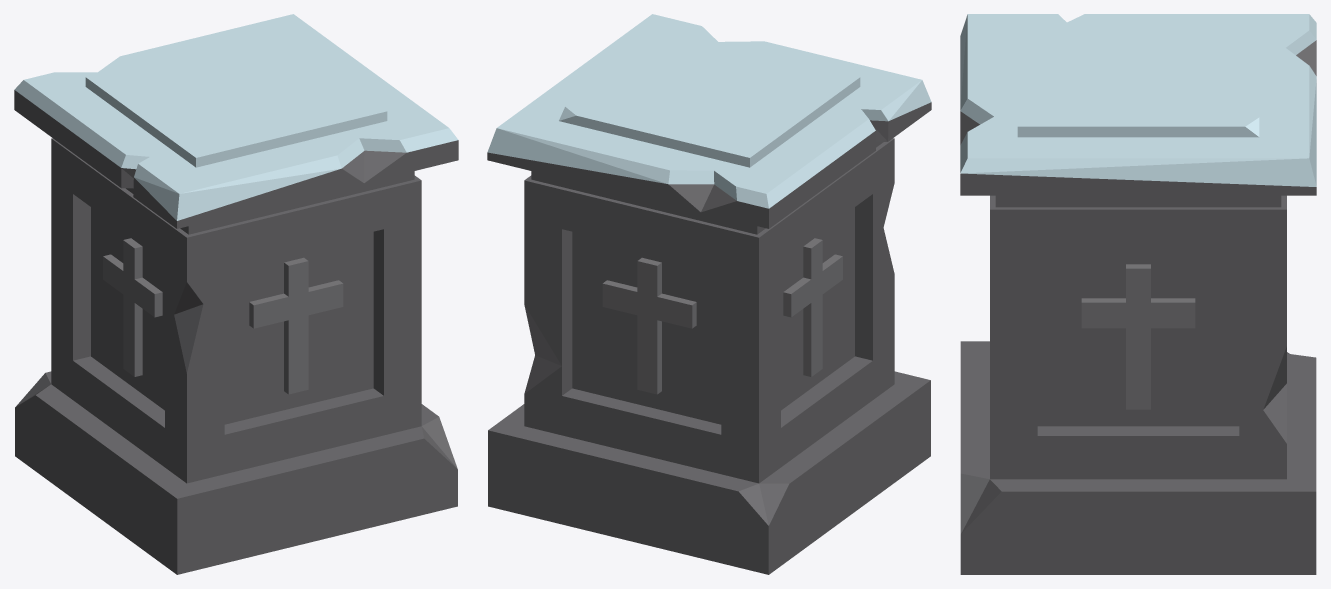
File: SM_Prop_Plinth_01_Snow.gltf
The picture shows the model from 3 angles, left to right: view 1: azimuth 30°, elevation 25°; view 2: azimuth 150°, elevation 25°; view 3: azimuth 270°, elevation 25°; orthographic projection. The views are drawn at different scales.
Visible parts, largest first — view 1: SM_Prop_Plinth_01_Snow; view 2: SM_Prop_Plinth_01_Snow; view 3: SM_Prop_Plinth_01_Snow.
Boxes of the visible parts, <box> form: SM_Prop_Plinth_01_Snow: <box>14,14,458,574</box>; SM_Prop_Plinth_01_Snow: <box>487,14,931,574</box>; SM_Prop_Plinth_01_Snow: <box>960,14,1316,574</box>.
Bounding box in the file's own units: 1.2 × 1.57 × 1.2.
Materials: 1 (1 with a texture image).
